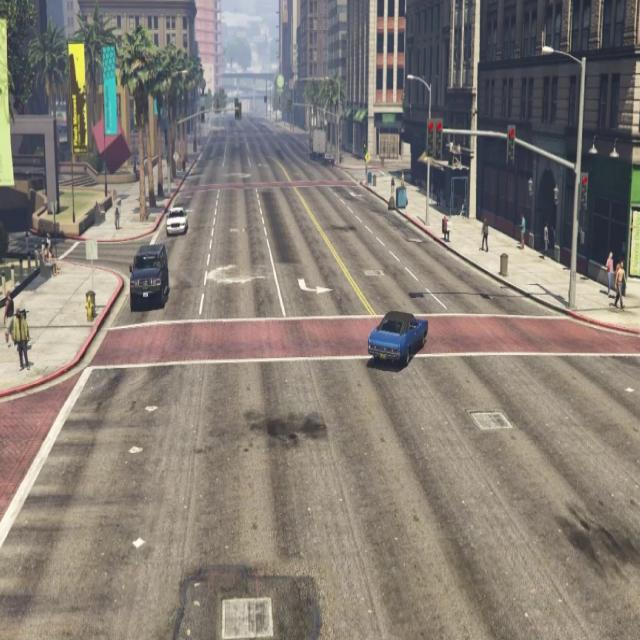Red-Signal: (424, 111, 446, 172), (502, 118, 521, 176), (578, 167, 592, 222)
